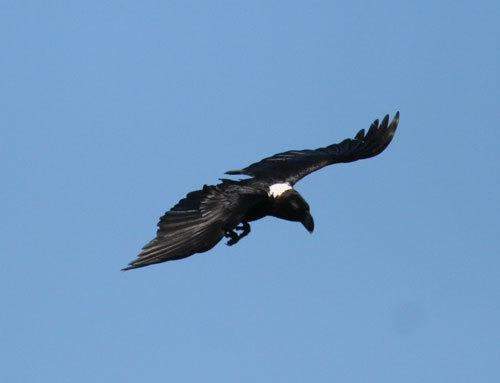bird: (119, 110, 402, 273)
